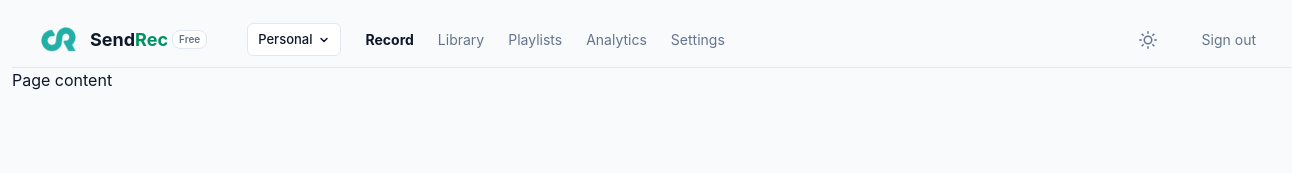
Test case: Layout › always renders org switcher with New Workspace option
This screenshot has width=1292, height=173.
Click the button named "Switch workspace". click: (294, 40)
box: [247,23,342,56]
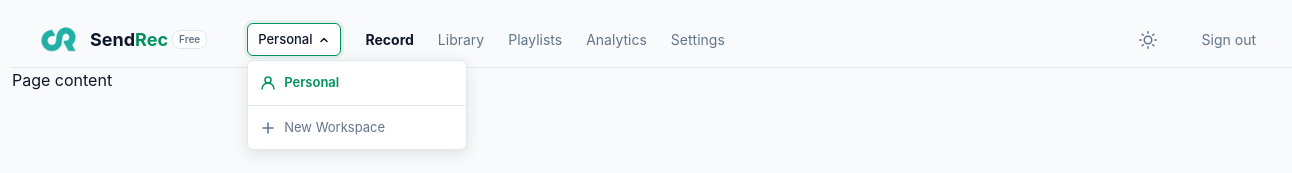
Expected: the text "New Workspace" is shown, [284,119,385,135]
